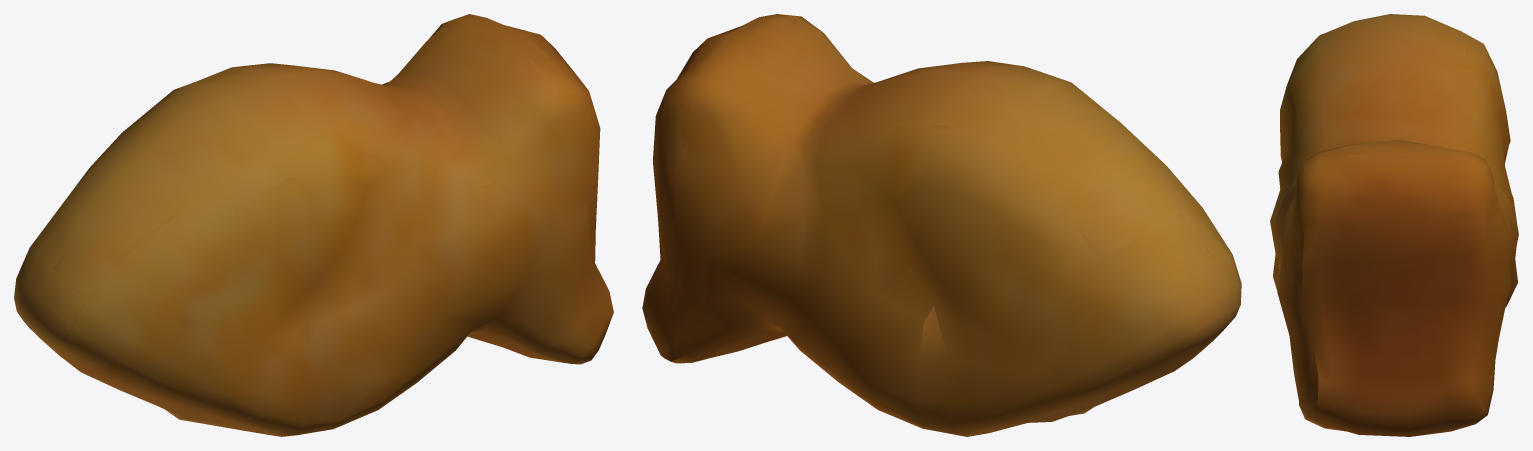
The model's file is FishCracker.glb.
The picture shows the model from 3 angles, left to right: view 1: azimuth 30°, elevation 25°; view 2: azimuth 150°, elevation 25°; view 3: azimuth 270°, elevation 25°; orthographic projection. The views are drawn at different scales.
Visible parts, largest first — view 1: geometry_0; view 2: geometry_0; view 3: geometry_0.
Part boxes in pixels (bbox=[...]): geometry_0: bbox=[14, 14, 613, 436]; geometry_0: bbox=[642, 14, 1241, 436]; geometry_0: bbox=[1270, 14, 1518, 436].
Size of the model in its own units: 0.9787 by 0.5745 by 0.4379.
1 material, 1 textured.
